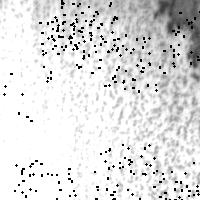pitted_surface: (2, 10, 196, 198), (39, 21, 99, 80), (104, 31, 163, 90), (94, 144, 153, 200), (153, 1, 198, 68), (56, 0, 116, 48), (14, 160, 74, 200), (140, 162, 200, 200), (170, 5, 200, 65), (0, 70, 30, 129), (47, 0, 104, 30)
